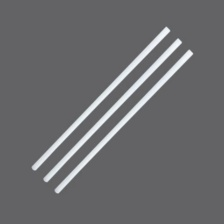drinking_straw: (26, 20, 199, 199)
